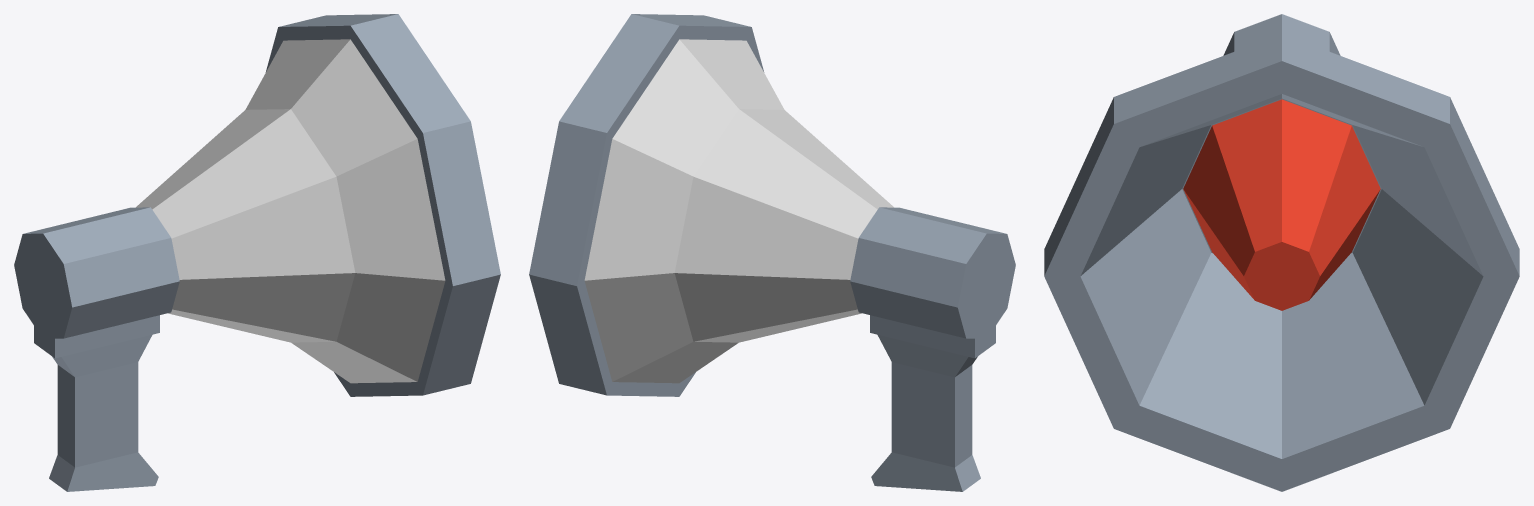
File: Megaphone.glb
3 renders of one model, left to right at view 1: azimuth 30°, elevation 25°; view 2: azimuth 150°, elevation 25°; view 3: azimuth 270°, elevation 25°, orthographic. The views are drawn at different scales.
Parts seen in each view (by area): view 1: Cylinder.154__0; view 2: Cylinder.154__0; view 3: Cylinder.154__0.
Boxes of the visible parts, x1,y1,x2,y2 form: Cylinder.154__0: [14, 14, 500, 491]; Cylinder.154__0: [529, 14, 1015, 491]; Cylinder.154__0: [1044, 14, 1519, 491].
Bounding box in the file's own units: 2.62 × 2.84 × 2.62.
